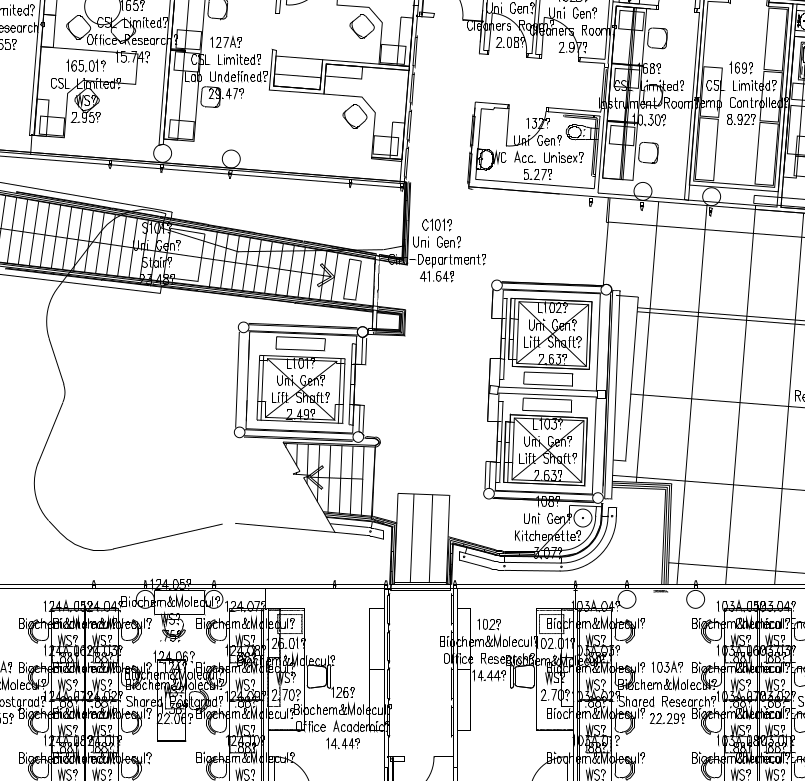door: (503, 101, 546, 147), (540, 15, 583, 61), (486, 13, 529, 59), (273, 751, 319, 781)
